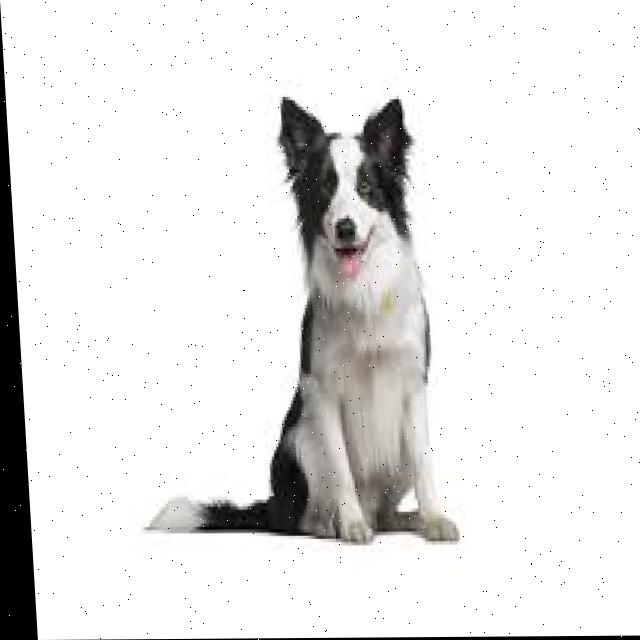BORDER_COLLIE: (124, 89, 468, 570)
